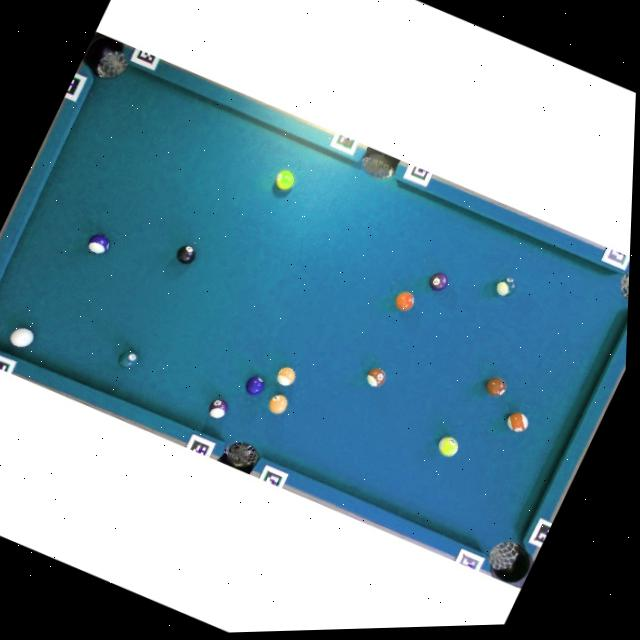cue ball: (7, 325, 37, 352)
other: (113, 346, 143, 375), (83, 230, 113, 259), (271, 166, 299, 194), (503, 409, 532, 436), (492, 274, 520, 301), (205, 395, 232, 423), (435, 434, 462, 461), (172, 242, 199, 269), (482, 375, 510, 401), (265, 391, 291, 418), (392, 288, 418, 314), (364, 365, 390, 391), (426, 270, 452, 295), (273, 364, 298, 389), (242, 374, 267, 398)
